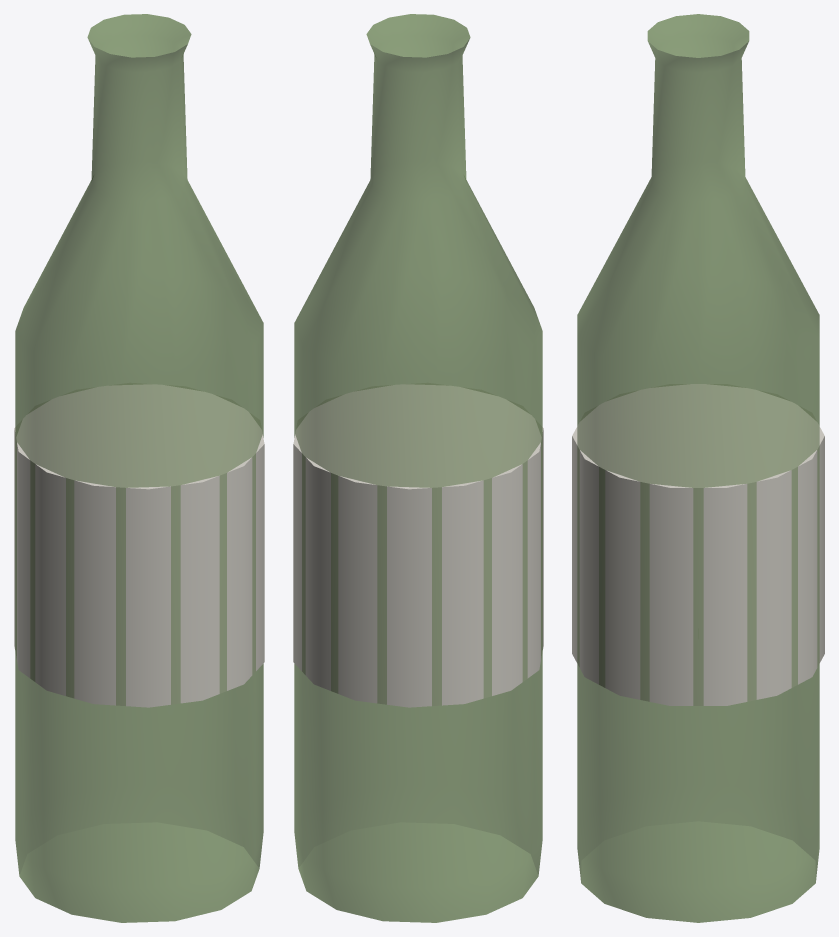
The model's file is SM_BeerBottle.fbx.
3 renders of one model, left to right at view 1: azimuth 30°, elevation 25°; view 2: azimuth 150°, elevation 25°; view 3: azimuth 270°, elevation 25°, orthographic.
Parts seen in each view (by area): view 1: SM_BeerBottle_1; view 2: SM_BeerBottle_1; view 3: SM_BeerBottle_1.
Part boxes in pixels (x1=…): SM_BeerBottle_1: x1=14, y1=14, x2=264, y2=922; SM_BeerBottle_1: x1=293, y1=14, x2=543, y2=922; SM_BeerBottle_1: x1=572, y1=14, x2=824, y2=922.
Size of the model in its own units: 6.2 by 23.2 by 6.3.
